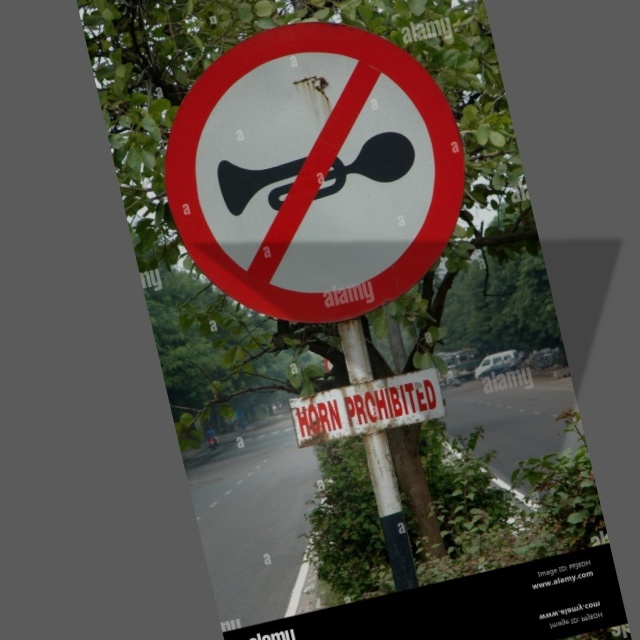Horn_Prohibited: (146, 1, 491, 342)
